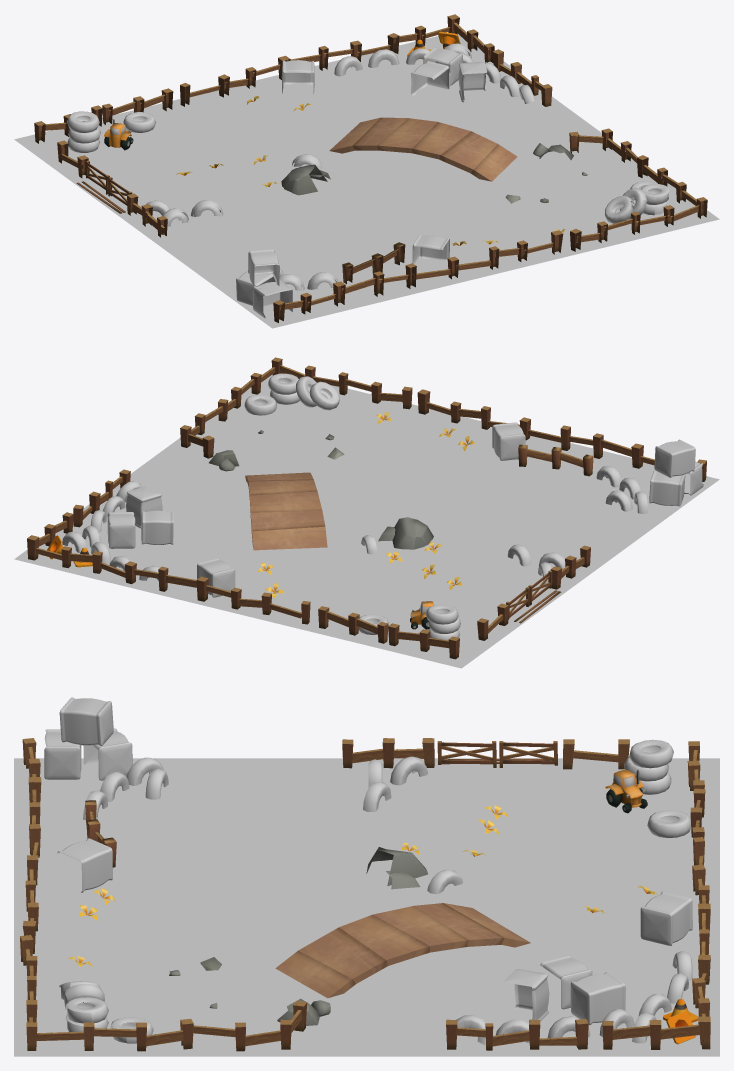
The model's file is PidgeyTrackEmpty.fbx.
The picture shows the model from 3 angles, top to bottom: view 1: azimuth 30°, elevation 25°; view 2: azimuth 150°, elevation 25°; view 3: azimuth 270°, elevation 25°; orthographic projection. The views are drawn at different scales.
Visible parts, largest first — view 1: PidgeyTrackEmpty; view 2: PidgeyTrackEmpty; view 3: PidgeyTrackEmpty.
Boxes of the visible parts, bbox=[...] form: PidgeyTrackEmpty: bbox=[14, 14, 719, 328]; PidgeyTrackEmpty: bbox=[14, 357, 719, 668]; PidgeyTrackEmpty: bbox=[14, 697, 719, 1056].
Bounding box in the file's own units: 136 × 19.61 × 136.
